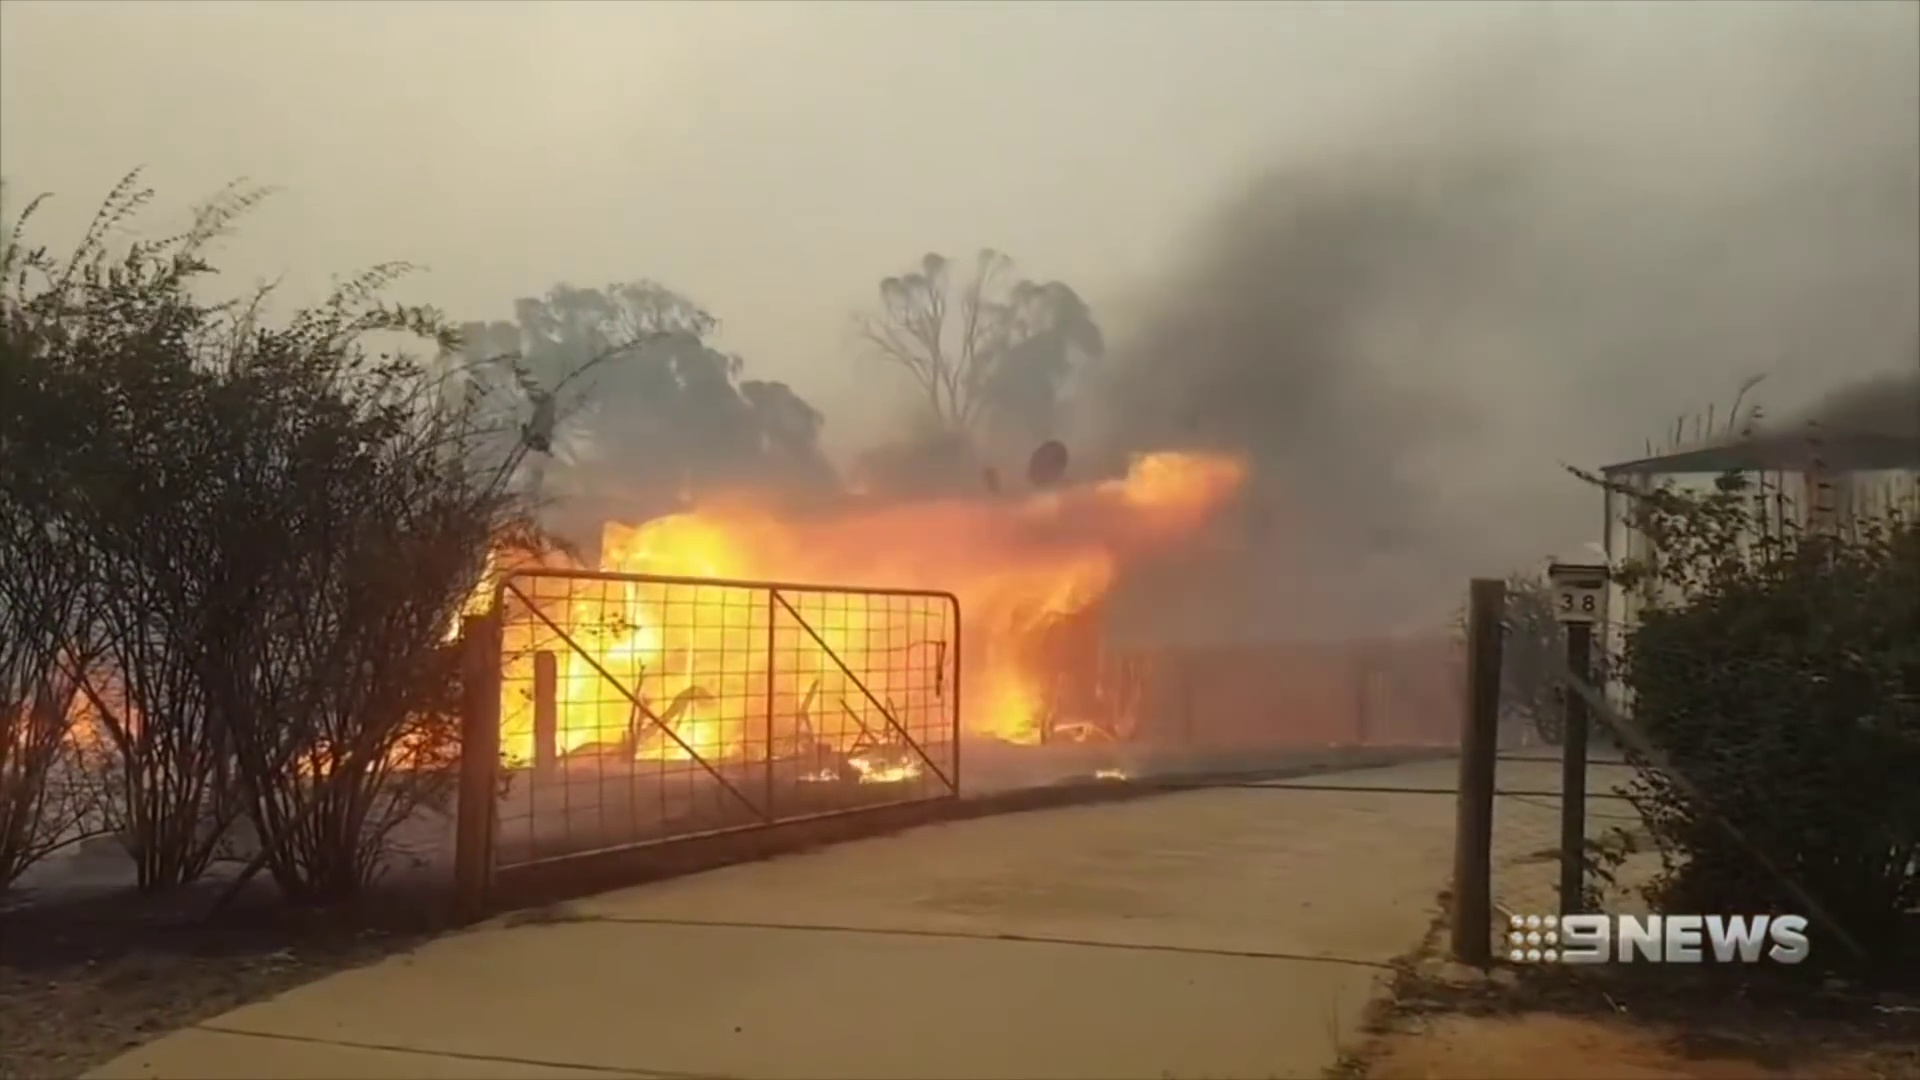fire: (555, 521, 756, 754), (847, 752, 926, 781)
